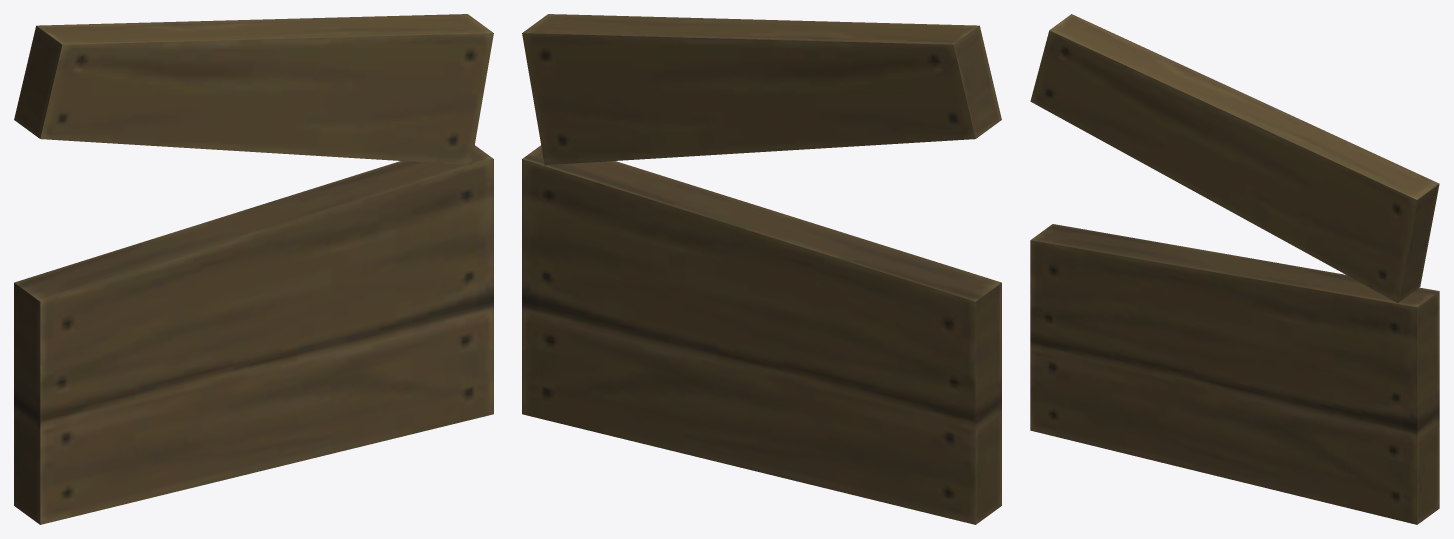
The model's file is ww2_woodwall.obj.
The picture shows the model from 3 angles, left to right: view 1: azimuth 30°, elevation 25°; view 2: azimuth 150°, elevation 25°; view 3: azimuth 330°, elevation 25°; orthographic projection. The views are drawn at different scales.
Parts seen in each view (by area): view 1: ww2_woodwall; view 2: ww2_woodwall; view 3: ww2_woodwall.
Boxes of the visible parts, <box> form: ww2_woodwall: <box>14,14,493,524</box>; ww2_woodwall: <box>522,14,1001,524</box>; ww2_woodwall: <box>1030,14,1439,524</box>.
Bounding box in the file's own units: 1 × 1 × 0.1.
Materials: 1 (1 with a texture image).
